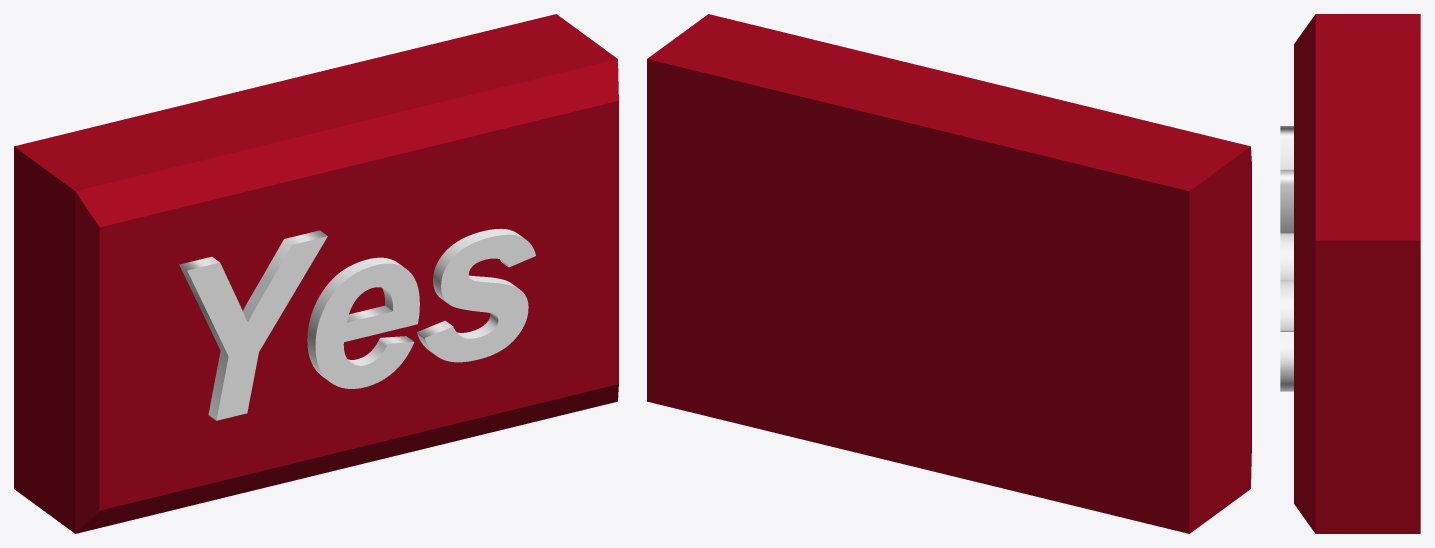
Rendered from Yes_Button.fbx.
3 views of the same model, side by side, from view 1: azimuth 30°, elevation 25°; view 2: azimuth 150°, elevation 25°; view 3: azimuth 270°, elevation 25° (orthographic). The views are drawn at different scales.
Parts seen in each view (by area): view 1: Button_Template.002; view 2: Button_Template.002; view 3: Button_Template.002.
Part boxes in pixels (bbox=[...]): Button_Template.002: bbox=[14, 14, 618, 533]; Button_Template.002: bbox=[647, 14, 1251, 533]; Button_Template.002: bbox=[1280, 14, 1420, 533].
Size of the model in its own units: 312 by 188 by 81.75.
